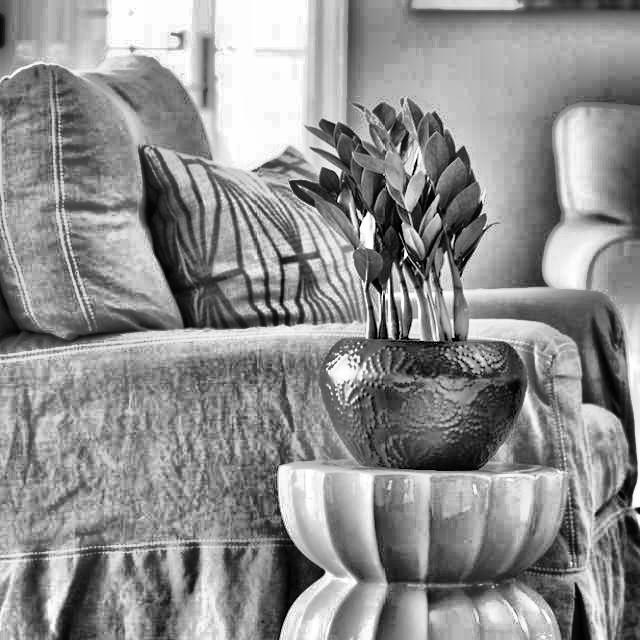plants: (292, 97, 530, 462)
